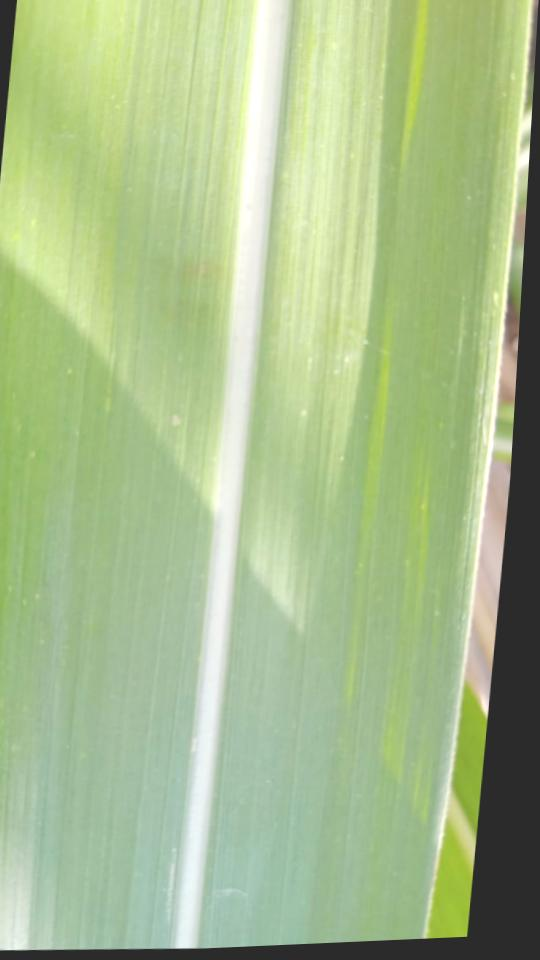Healthy: (0, 0, 530, 950)
